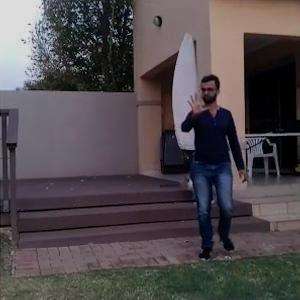follow_hand: (184, 87, 213, 120)
